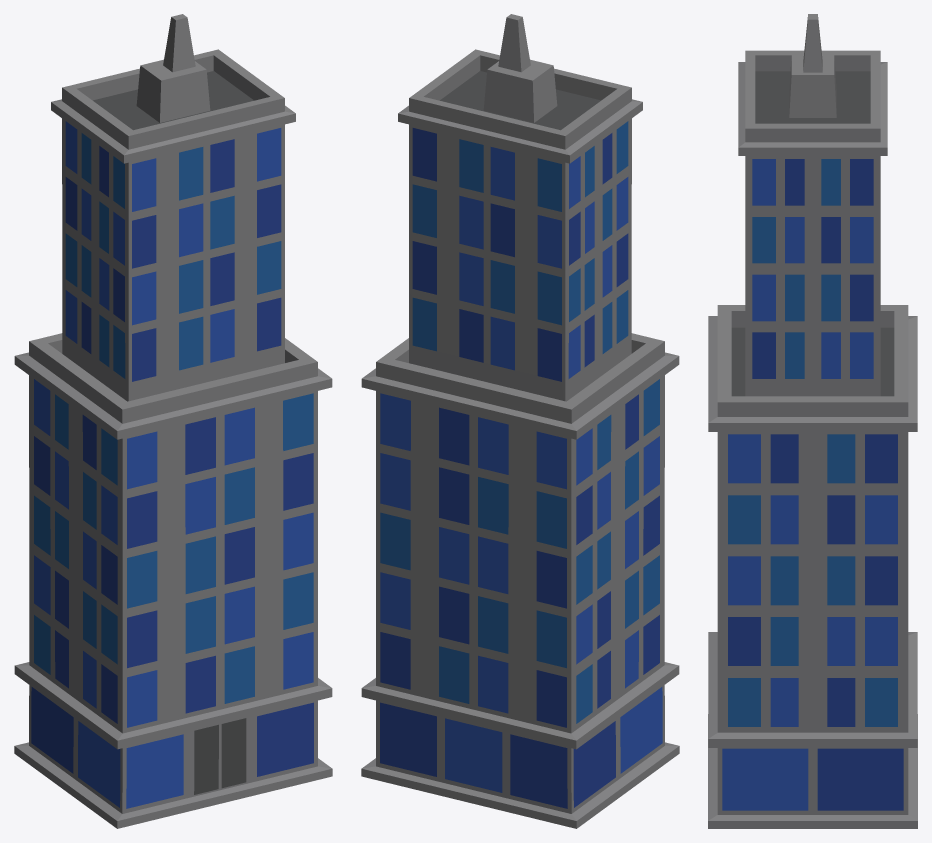
The model's file is HighHouse 1.2.fbx.
3 views of the same model, side by side, from view 1: azimuth 30°, elevation 25°; view 2: azimuth 150°, elevation 25°; view 3: azimuth 270°, elevation 25° (orthographic). The views are drawn at different scales.
Visible parts, largest first — view 1: HighHouse_1_02; view 2: HighHouse_1_02; view 3: HighHouse_1_02.
Part boxes in pixels (x1,y1,x2,y2): HighHouse_1_02: (14,14,332,828); HighHouse_1_02: (361,14,679,828); HighHouse_1_02: (708,14,917,828).
Bounding box in the file's own units: 551 × 1825 × 456.
